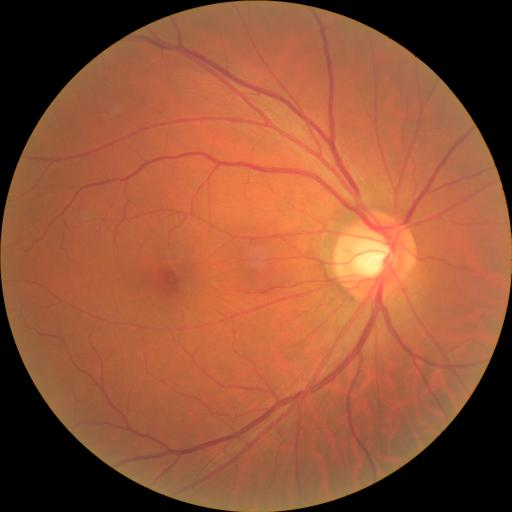Optic Cup: (355, 243, 396, 276)
Optic Disc: (334, 209, 415, 302)
